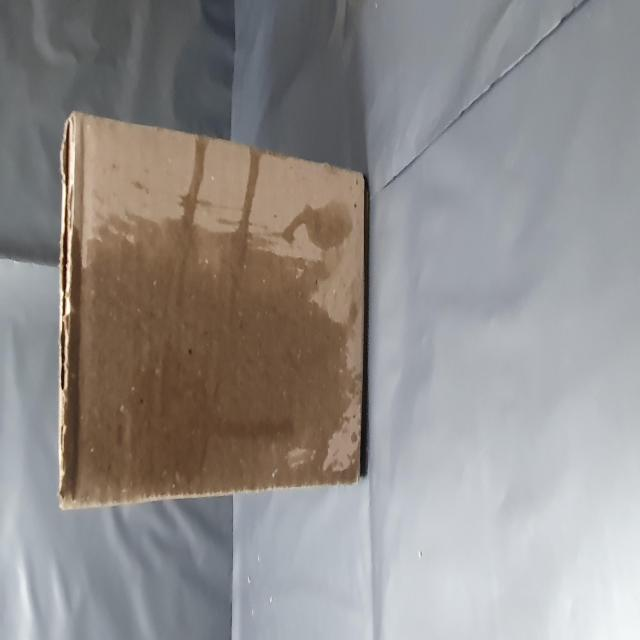wet: (76, 106, 284, 640)
